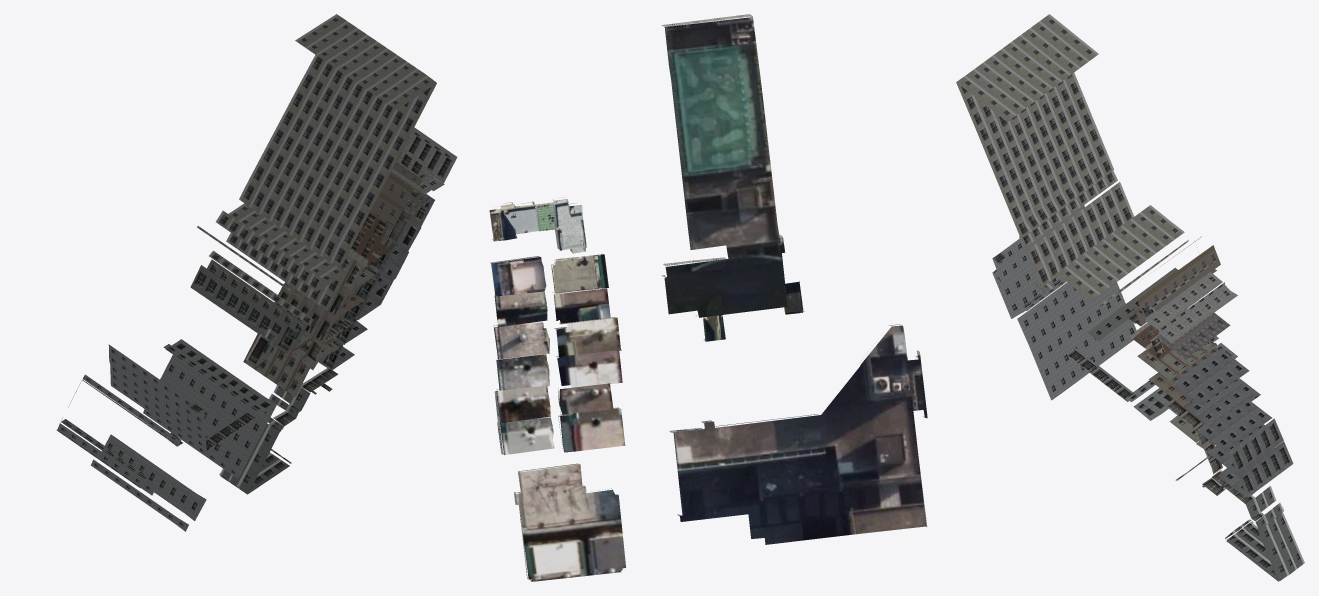
File: tile_LOD4_r6_c7.glb
3 views of the same model, side by side, from view 1: azimuth 30°, elevation 25°; view 2: azimuth 150°, elevation 25°; view 3: azimuth 270°, elevation 25° (orthographic). The views are drawn at different scales.
Bounding box in the file's own units: 131 × 149 × 91.5.
Materials: 71 (71 with a texture image).
